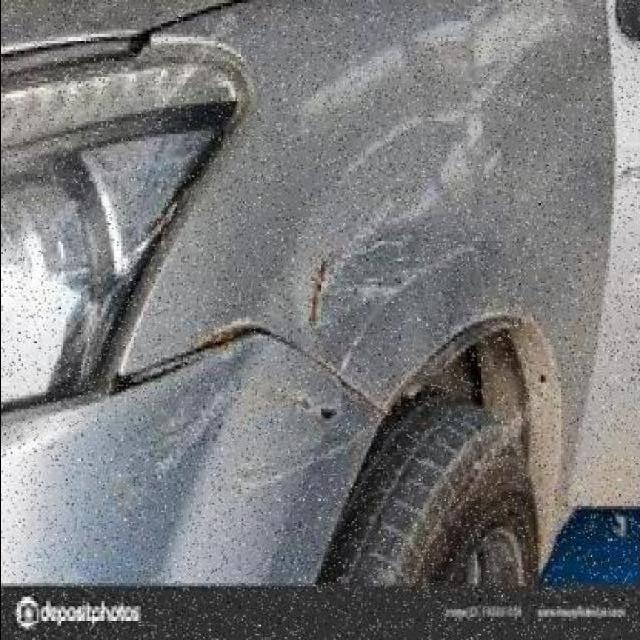fender-dent: (206, 3, 599, 395)
front-bumper-dent: (0, 372, 381, 600)
